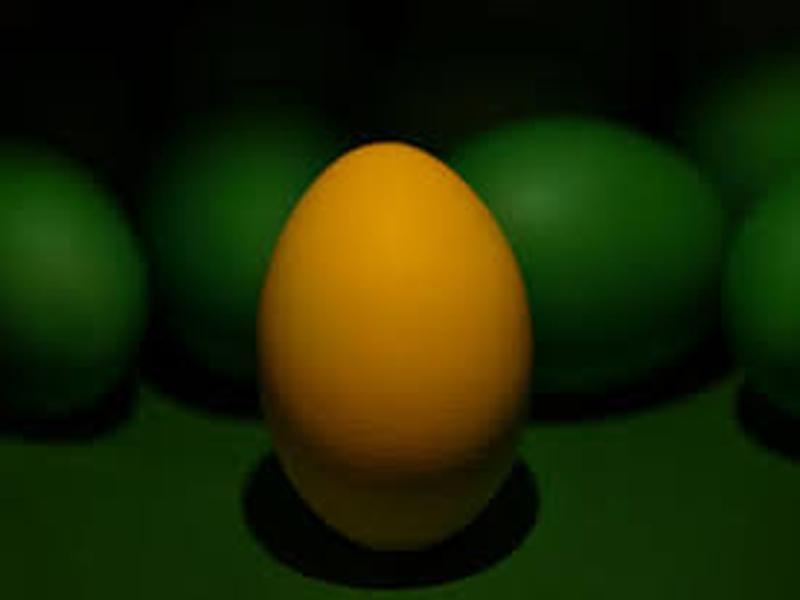Eggs: (256, 144, 532, 551)
